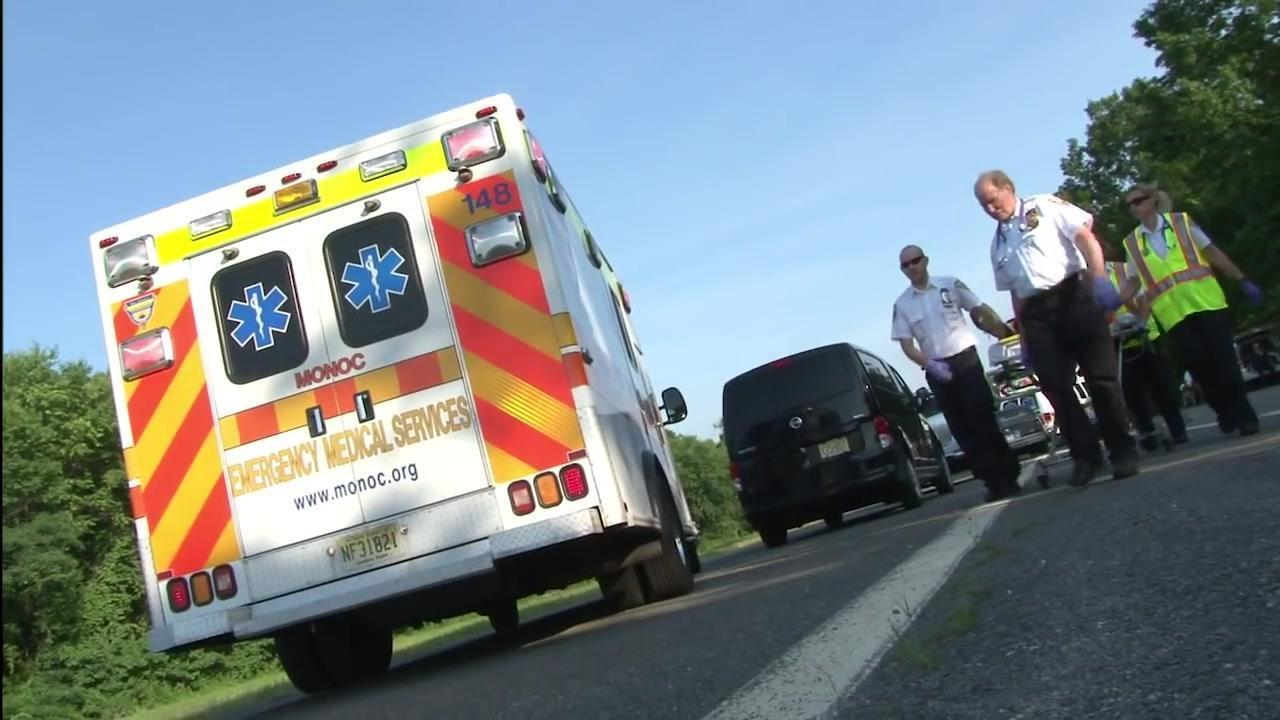vest: (1117, 210, 1229, 341)
